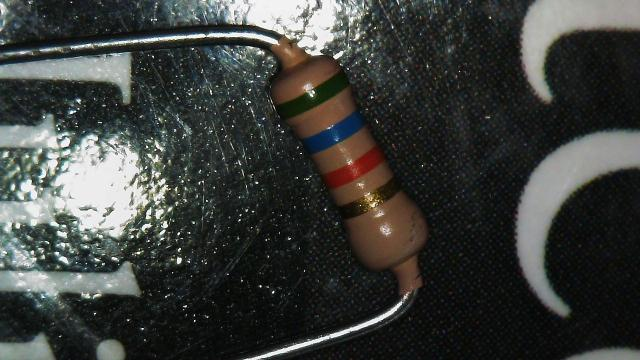blue: (302, 111, 365, 154)
gold: (336, 176, 400, 220)
green: (275, 70, 350, 118)
orange: (323, 148, 383, 190)
resistor: (231, 16, 467, 315)
